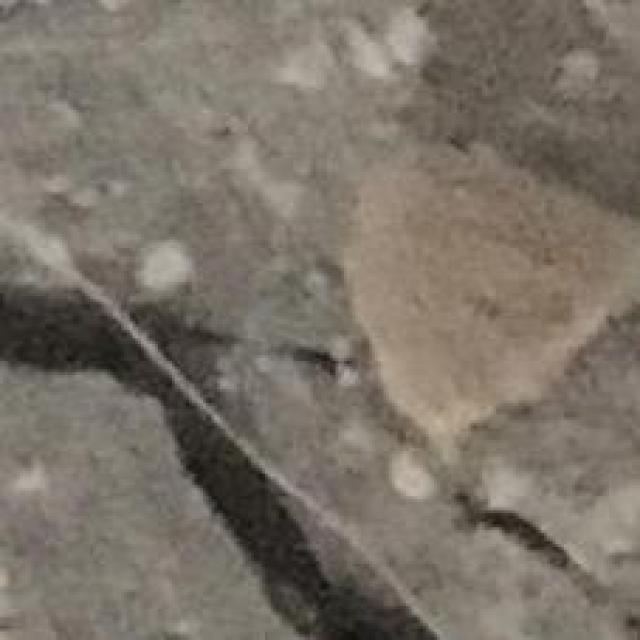Crack: (0, 262, 437, 637), (451, 485, 603, 600)
